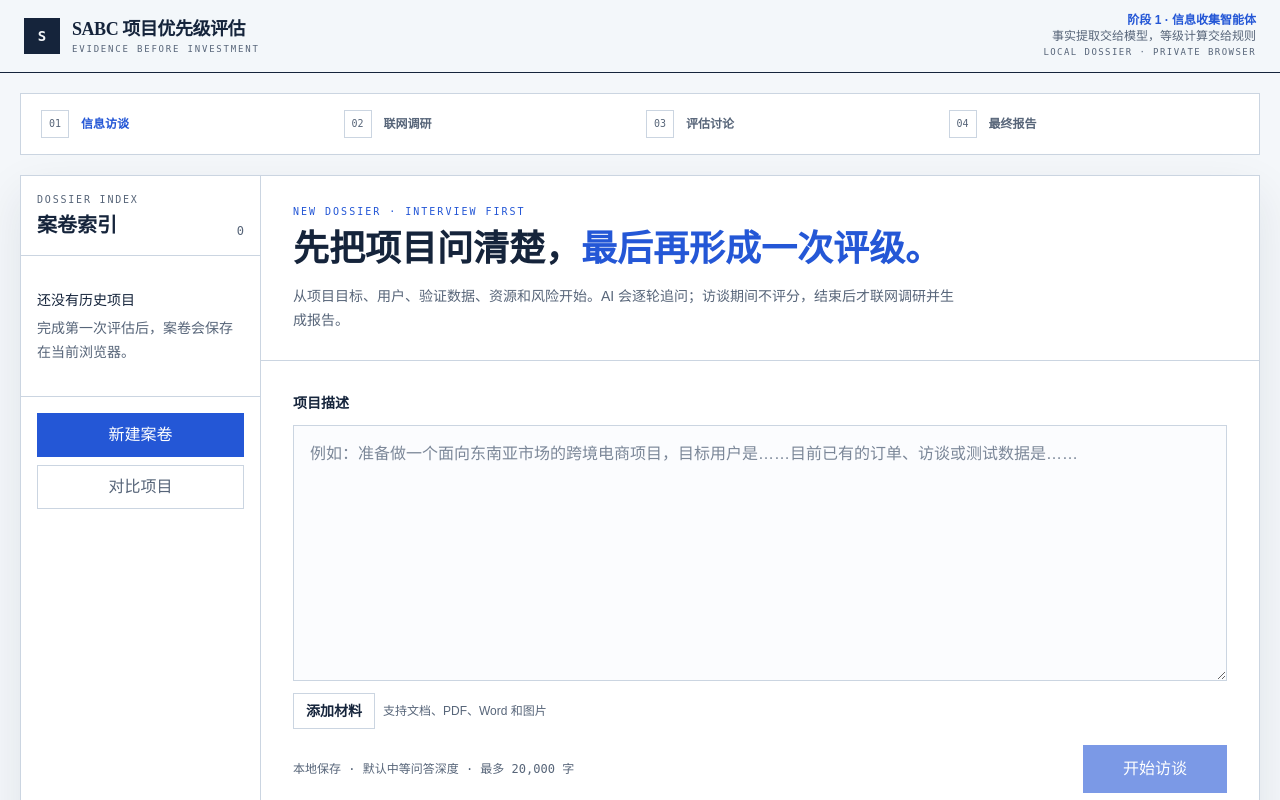
Test case: uses a chat-first workspace without any live grade sidebar
Check: the button "结束信息收集并开始调研" is not shown
Step 1. Type "为 20 人团队做一个可视化排期工具" into the text box labelled "项目描述" → [760, 552], box [293, 424, 1227, 680]
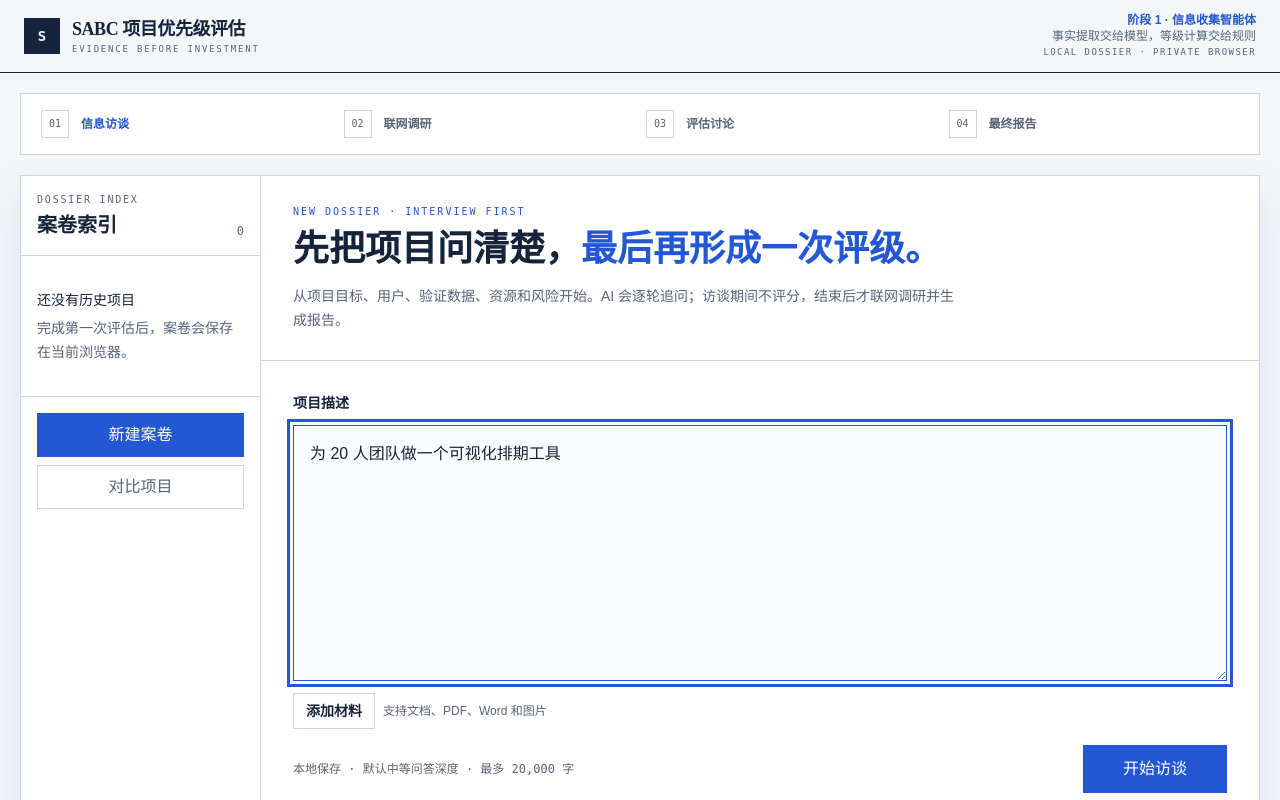
Step 2. Click the button "开始访谈" → [1155, 768], box [1083, 744, 1227, 792]
(page scrolled)
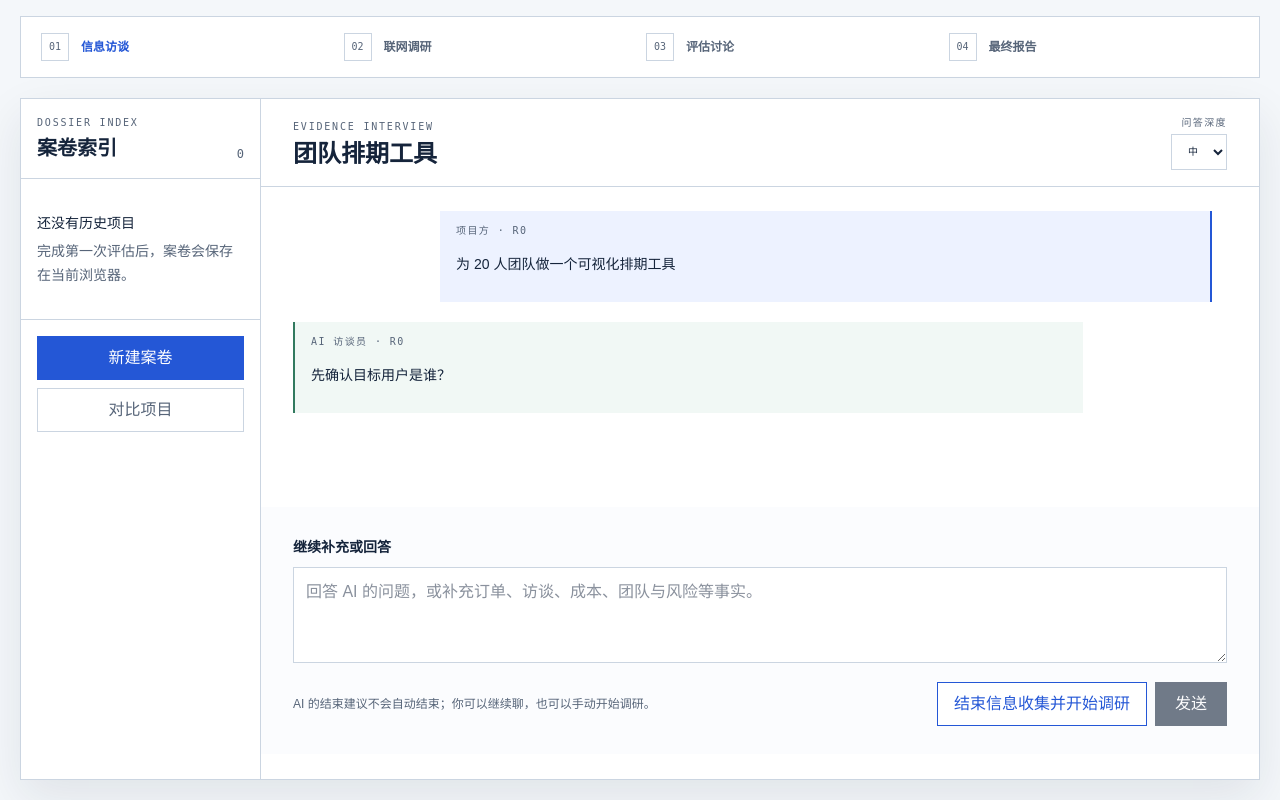
Check: the text "先确认目标用户是谁？" is shown, box [311, 366, 451, 382]
Check: the button "结束信息收集并开始调研" is enabled, box [937, 682, 1147, 726]
